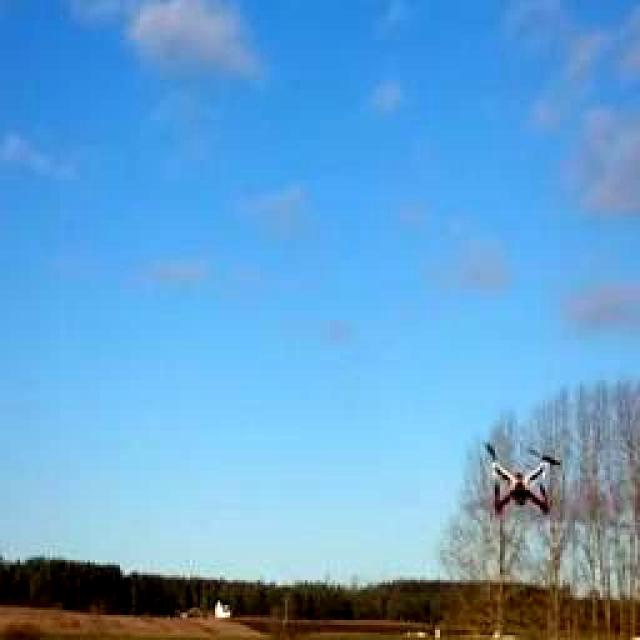bird: (484, 448, 561, 525)
